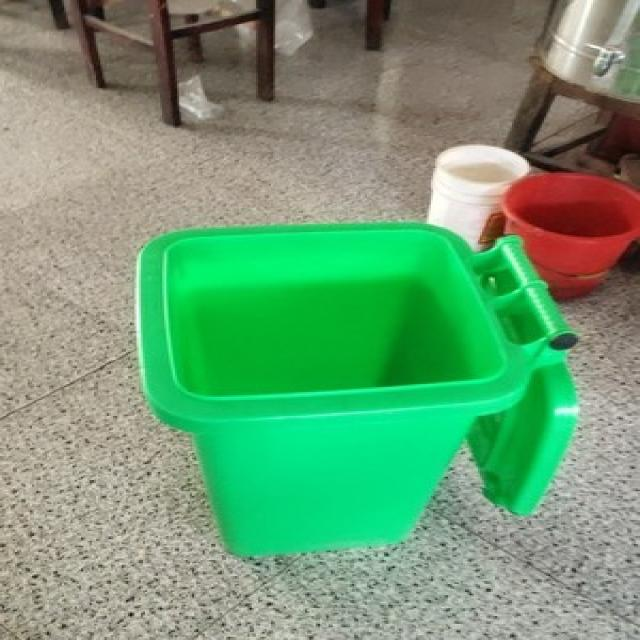ash bin: (130, 219, 583, 552)
